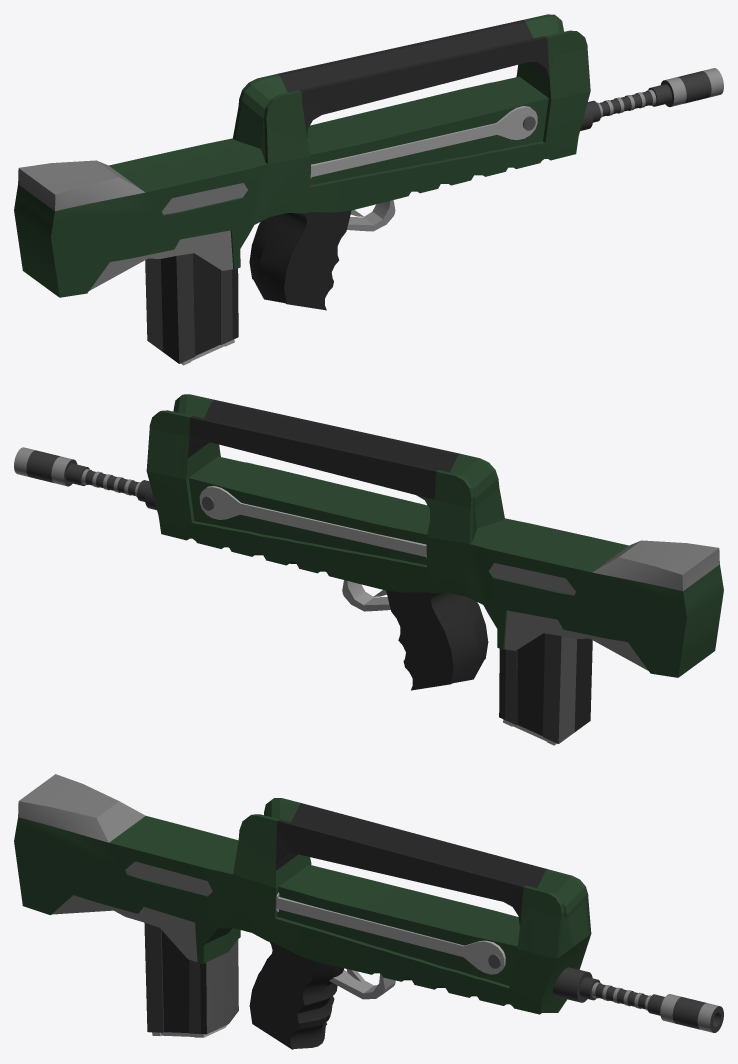
Rendered from famas.fbx.
3 renders of one model, top to bottom at view 1: azimuth 30°, elevation 25°; view 2: azimuth 150°, elevation 25°; view 3: azimuth 330°, elevation 25°, orthographic.
Parts seen in each view (by area): view 1: Cylinder; view 2: Cylinder; view 3: Cylinder.
Part boxes in pixels (x1,y1,x2,y2): Cylinder: (14,14,723,365); Cylinder: (14,394,723,745); Cylinder: (14,774,723,1049).
Bounding box in the file's own units: 449 × 152 × 41.98.
